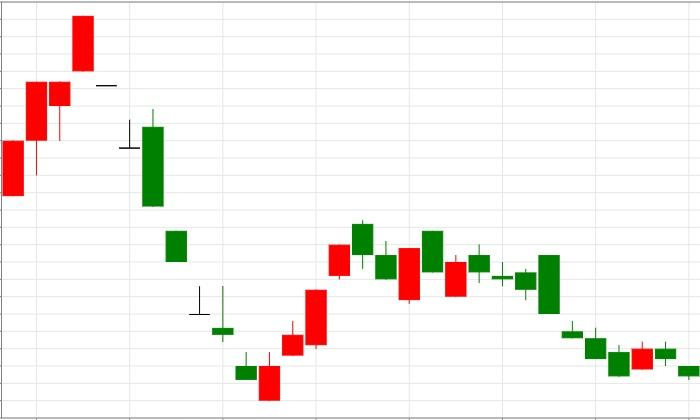bullish_engulfing_rise: (72, 15, 281, 402)
